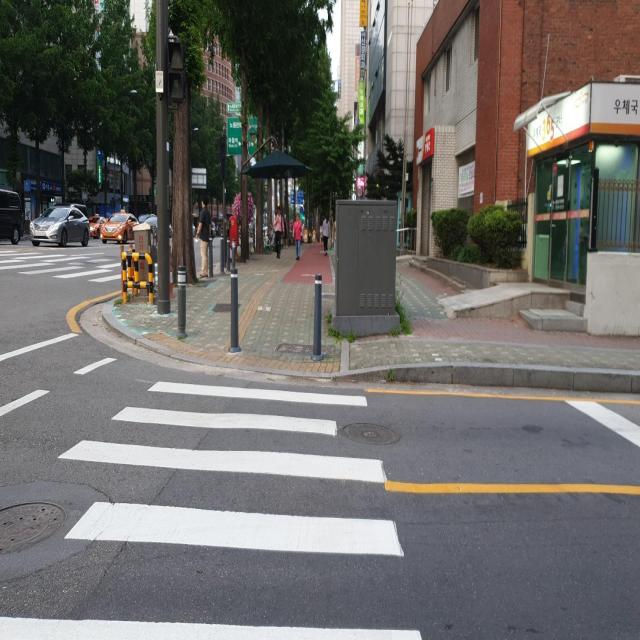횡단보도: (0, 378, 424, 639), (0, 246, 125, 285)
